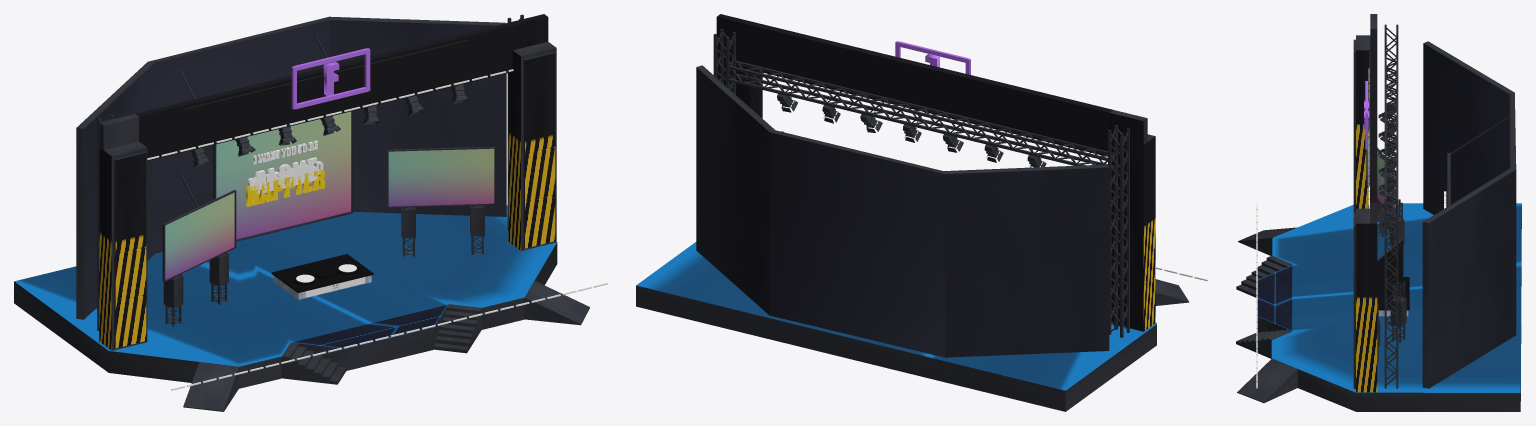
The model's file is stage.glb.
3 renders of one model, left to right at view 1: azimuth 30°, elevation 25°; view 2: azimuth 150°, elevation 25°; view 3: azimuth 270°, elevation 25°, orthographic. The views are drawn at different scales.
Visible parts, largest first — view 1: StageDeck, StageArch, StageMetal, StageWall, LEDBack, LEDSideR, LEDSideL, DjBooth, LogoFrame, TextHappier, TextAlone, TextMello (+1 smaller); view 2: StageWall, StageMetal, StageArch, StageDeck, LogoFrame; view 3: StageWall, StageDeck, StageMetal, StageArch, LEDSideL, DjBooth.
Boxes of the visible parts, left/top/right/bottom form: StageDeck: left=14, top=205, right=556, bottom=366; StageArch: left=99, top=14, right=555, bottom=350; StageMetal: left=14, top=14, right=589, bottom=411; StageWall: left=83, top=20, right=506, bottom=319; LEDBack: left=216, top=111, right=351, bottom=239; LEDSideR: left=388, top=148, right=494, bottom=206; LEDSideL: left=165, top=192, right=234, bottom=279; DjBooth: left=271, top=254, right=373, bottom=299; LogoFrame: left=291, top=48, right=370, bottom=109; TextHappier: left=246, top=169, right=324, bottom=206; TextAlone: left=255, top=157, right=317, bottom=195; TextMello: left=248, top=161, right=323, bottom=190; StageWall: left=696, top=67, right=1109, bottom=357; StageMetal: left=636, top=29, right=1189, bottom=411; StageArch: left=716, top=14, right=1155, bottom=331; StageDeck: left=636, top=242, right=1156, bottom=390; LogoFrame: left=895, top=41, right=970, bottom=74; StageWall: left=1423, top=43, right=1516, bottom=388; StageDeck: left=1257, top=203, right=1521, bottom=392; StageMetal: left=1236, top=14, right=1521, bottom=411; StageArch: left=1356, top=29, right=1403, bottom=392; LEDSideL: left=1367, top=139, right=1395, bottom=214; DjBooth: left=1378, top=277, right=1409, bottom=316.
Bounding box in the file's own units: 67.51 × 36.8 × 42.99.
12 materials, 12 textured.
